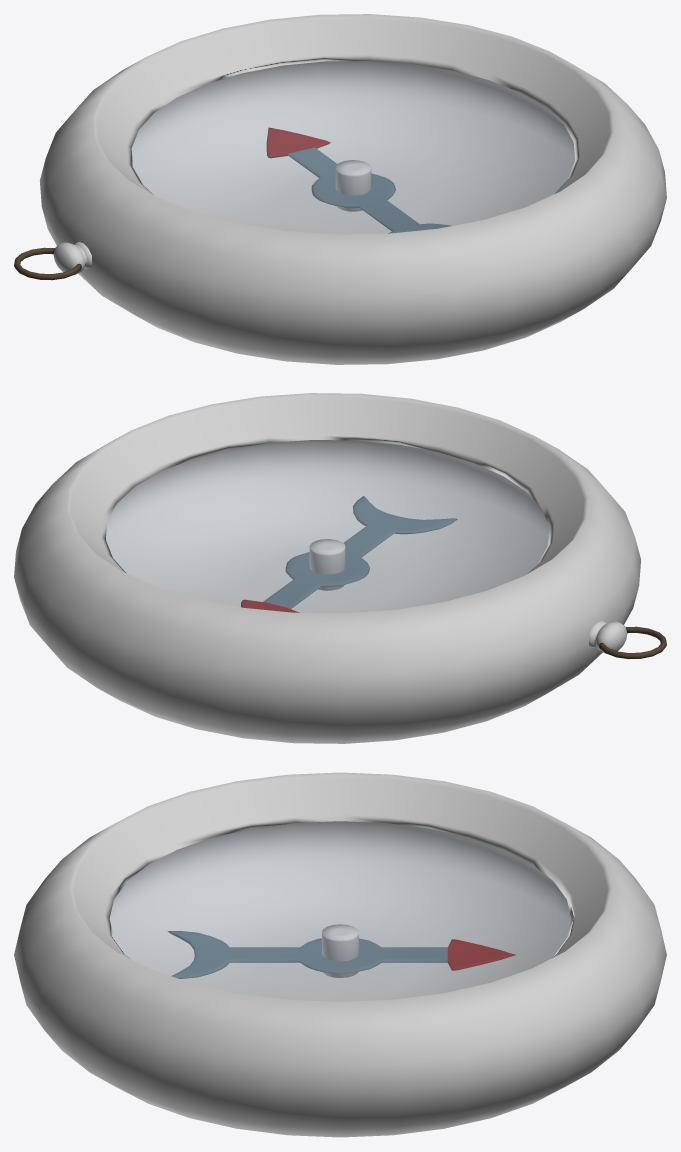
File: sceneC.gltf
3 views of the same model, one above another, from view 1: azimuth 30°, elevation 25°; view 2: azimuth 150°, elevation 25°; view 3: azimuth 270°, elevation 25° (orthographic). The views are drawn at different scales.
Visible parts, largest first — view 1: Sphere, Sphere.001, Cube_Cube.001, Cylinder, Circle_Circle.003, Torus.001; view 2: Sphere, Sphere.001, Cube_Cube.001, Cylinder, Circle_Circle.003, Torus.001; view 3: Sphere, Sphere.001, Cube_Cube.001, Cylinder.
Part boxes in pixels (box(x1,y1,x2,y2)): Sphere: box(40, 14, 666, 364); Sphere.001: box(132, 61, 574, 233); Cube_Cube.001: box(266, 127, 451, 233); Cylinder: box(335, 160, 371, 211); Circle_Circle.003: box(53, 242, 91, 274); Torus.001: box(14, 247, 81, 280); Sphere: box(14, 393, 640, 743); Sphere.001: box(106, 440, 548, 612); Cube_Cube.001: box(241, 496, 457, 612); Cylinder: box(309, 539, 345, 590); Circle_Circle.003: box(589, 621, 627, 653); Torus.001: box(599, 626, 666, 659); Sphere: box(14, 772, 666, 1137); Sphere.001: box(110, 821, 570, 1001); Cube_Cube.001: box(167, 931, 515, 978); Cylinder: box(322, 924, 358, 977).
Bounding box in the file's own units: 2 × 0.4115 × 1.8.
